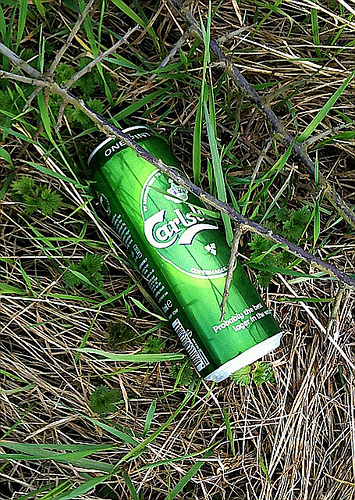litter: (85, 123, 283, 383)
